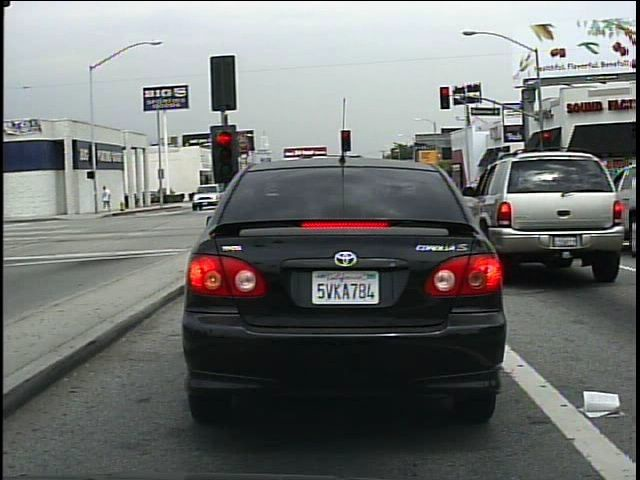person: (99, 182, 115, 212)
